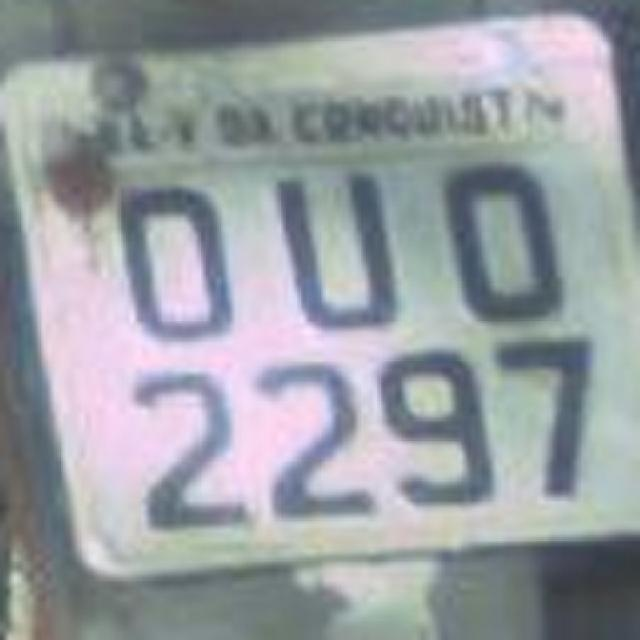2: (92, 335, 272, 540), (220, 340, 385, 532)
7: (476, 324, 616, 524)
9: (348, 332, 508, 528)
O: (435, 152, 580, 348), (109, 160, 256, 352)
U: (260, 156, 425, 356)
